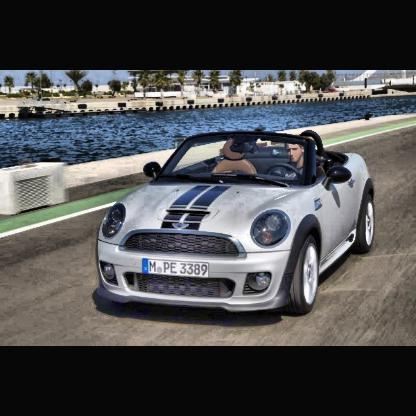MINI Cooper Roadster Convertible 2012: (96, 130, 376, 318)
